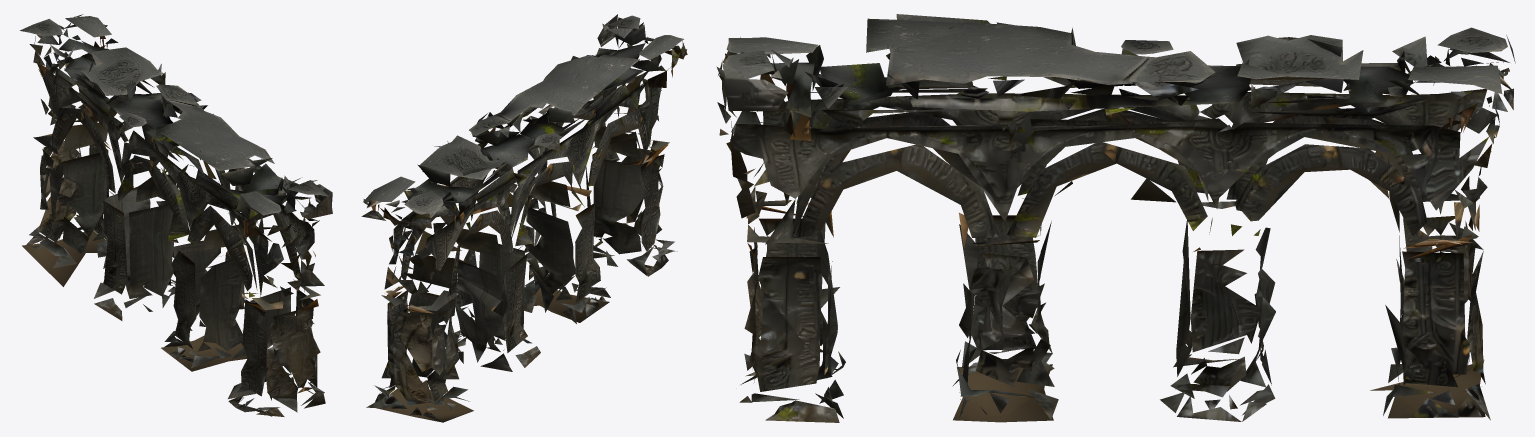
File: ch6_sunken_aqueduct_arches_LOD3.glb
The picture shows the model from 3 angles, left to right: view 1: azimuth 30°, elevation 25°; view 2: azimuth 150°, elevation 25°; view 3: azimuth 270°, elevation 25°; orthographic projection. The views are drawn at different scales.
Parts seen in each view (by area): view 1: tripo_node_0f47f7d9-d05a-4230-95cf-df8e52c144d8; view 2: tripo_node_0f47f7d9-d05a-4230-95cf-df8e52c144d8; view 3: tripo_node_0f47f7d9-d05a-4230-95cf-df8e52c144d8.
Boxes of the visible parts, x1,y1,x2,y2 form: tripo_node_0f47f7d9-d05a-4230-95cf-df8e52c144d8: [20, 14, 332, 416]; tripo_node_0f47f7d9-d05a-4230-95cf-df8e52c144d8: [361, 14, 687, 422]; tripo_node_0f47f7d9-d05a-4230-95cf-df8e52c144d8: [716, 14, 1515, 422].
Size of the model in its own units: 0.1956 by 0.5077 by 1.01.
1 material, 1 textured.
